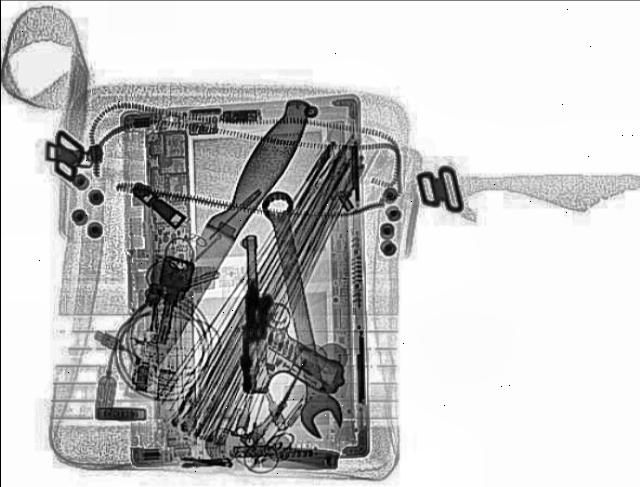Gun: (236, 232, 344, 392)
Knife: (123, 93, 317, 371)
Wrench: (253, 188, 343, 438)
